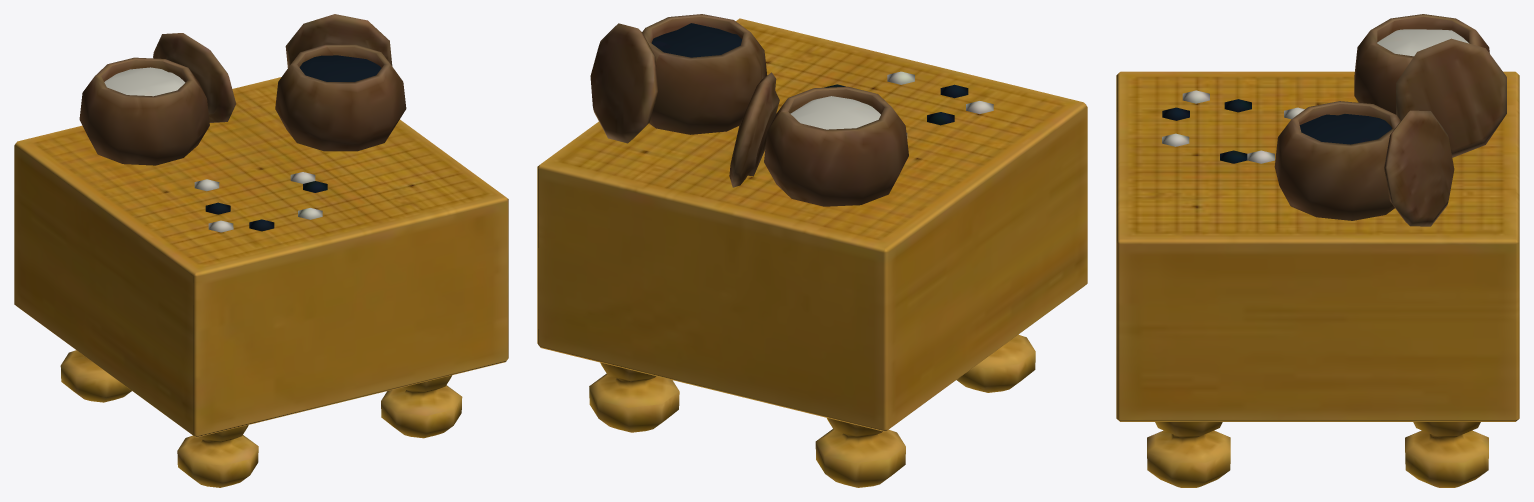
3 views of the same model, side by side, from view 1: azimuth 30°, elevation 25°; view 2: azimuth 150°, elevation 25°; view 3: azimuth 270°, elevation 25° (orthographic). The views are drawn at different scales.
Size of the model in its own units: 6.28 by 6.33 by 6.15.
Materials: 1 (1 with a texture image).
